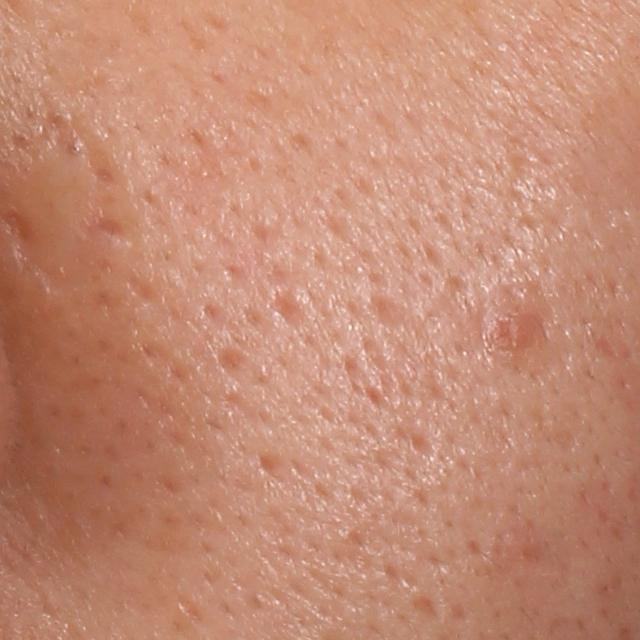atrophic_scar: (371, 289, 418, 334), (274, 287, 314, 323), (128, 273, 167, 308), (89, 208, 133, 239), (1, 208, 33, 247), (215, 346, 248, 380), (407, 595, 442, 624), (255, 446, 283, 481)
papule: (486, 304, 537, 348)
